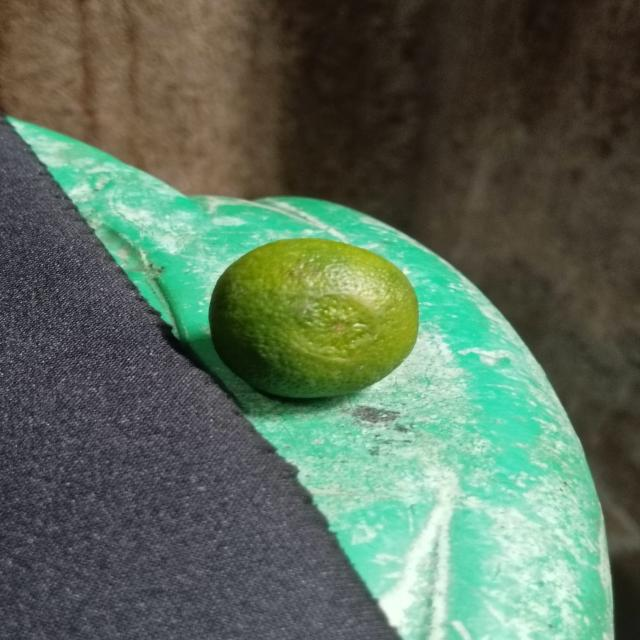heathy: (205, 238, 422, 406)
